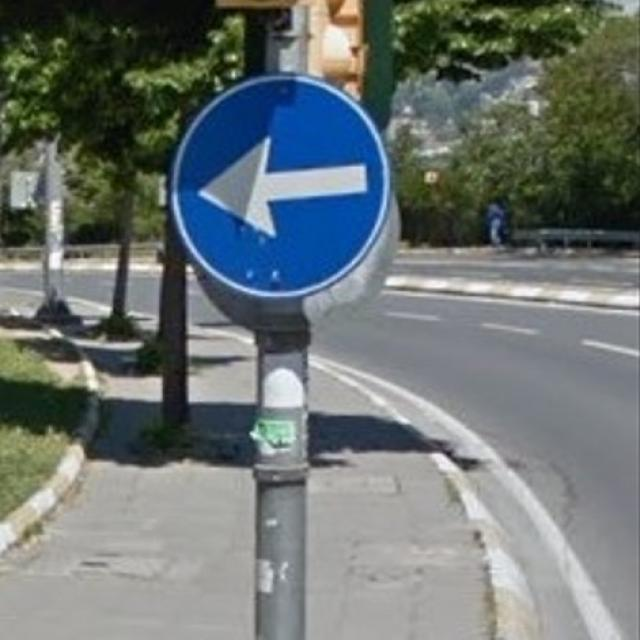Turn Left: (170, 78, 405, 301)
